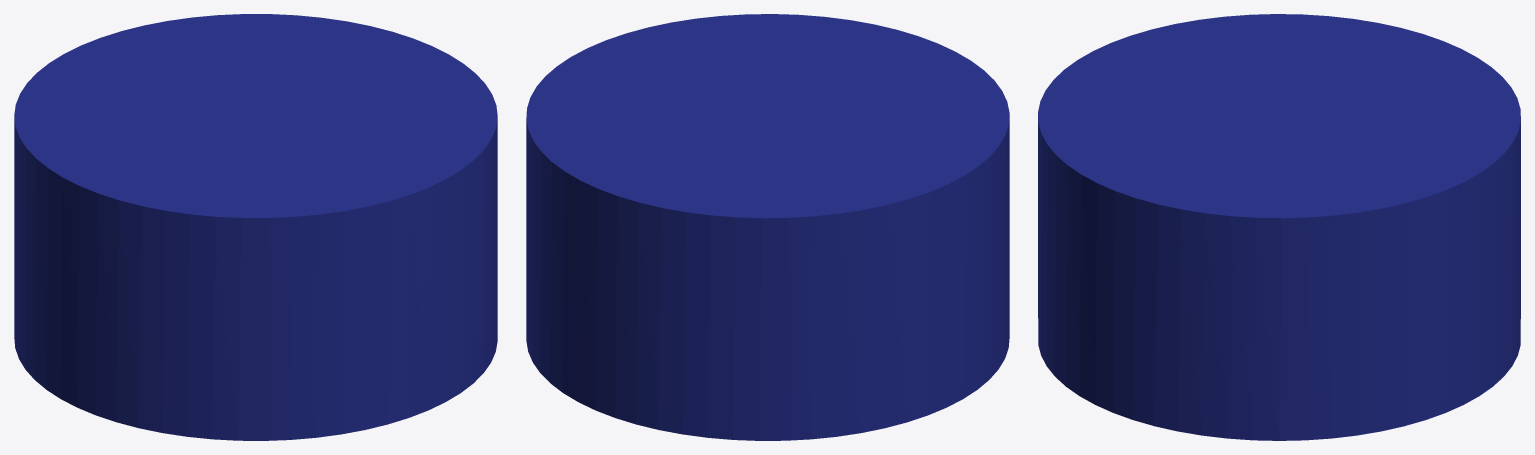
File: left_wheel3_Body1.obj
3 renders of one model, left to right at view 1: azimuth 30°, elevation 25°; view 2: azimuth 150°, elevation 25°; view 3: azimuth 270°, elevation 25°, orthographic.
Size of the model in its own units: 236 by 120 by 236.
